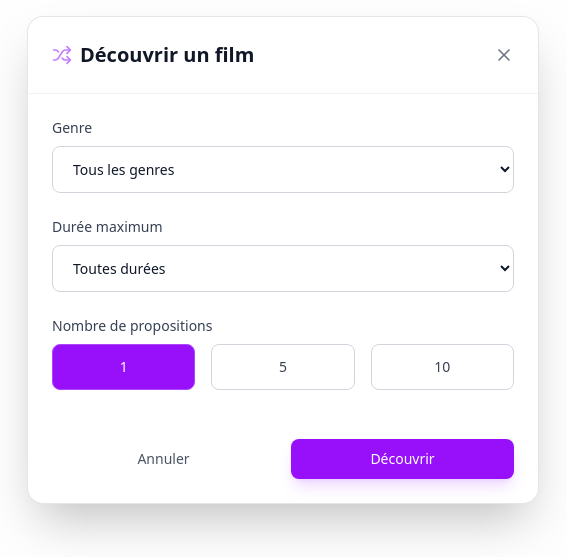
Test: DiscoverModal › filtre les films avant de lancer la roue
# Sélectionner genre Comedy et durée max 120
Select "Comedy" in the dropdown named "Filtrer par genre" at (283, 170), box [52, 146, 514, 193]
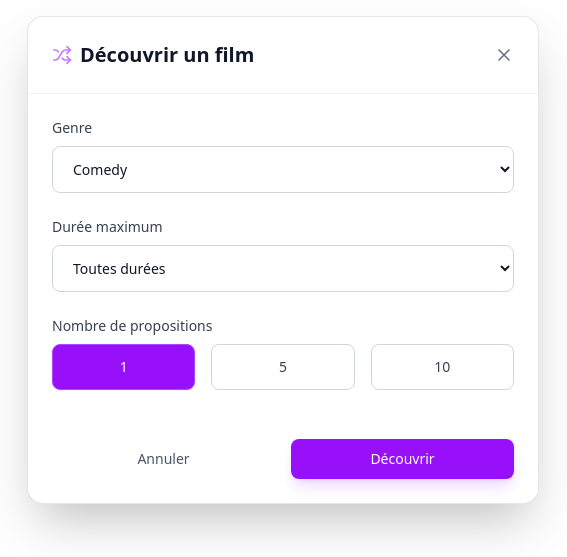
Select "- de 2h00" in the dropdown named "Filtrer par durée maximum" at (283, 268), box [52, 245, 514, 292]
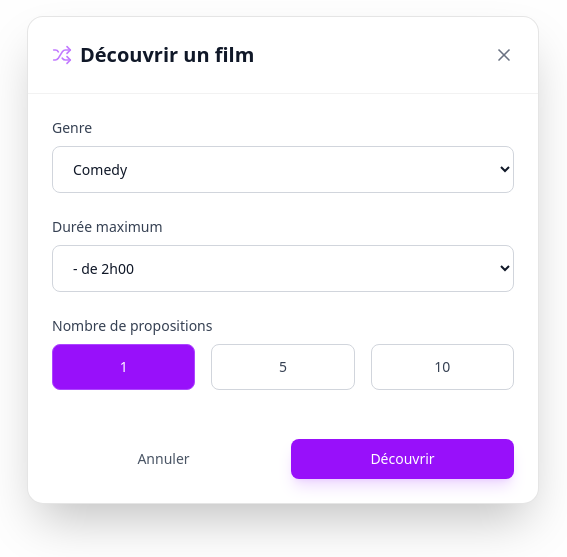
Click the button "Découvrir".
click(402, 459)  # box [291, 439, 514, 479]
Wait 1600 ms
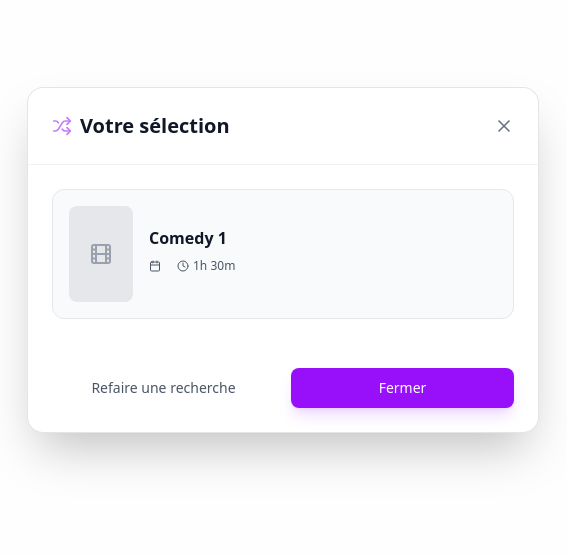
expect the heading "Comedy 1" is shown: met, box [149, 227, 227, 249]
